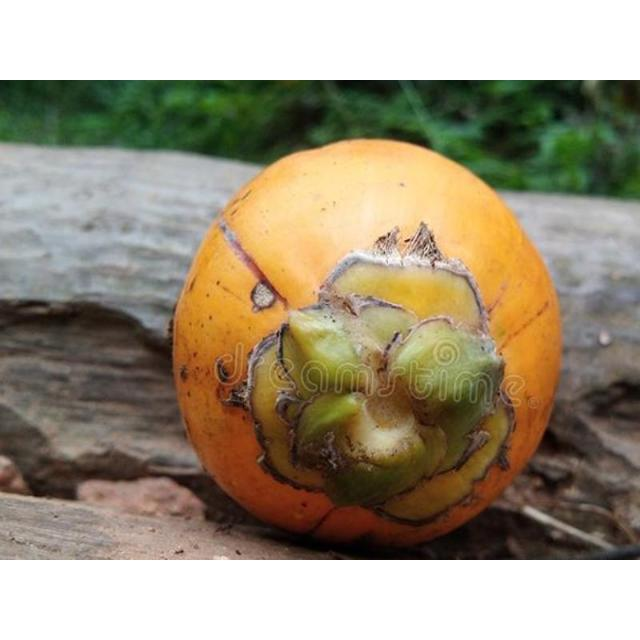good: (172, 138, 562, 546)
